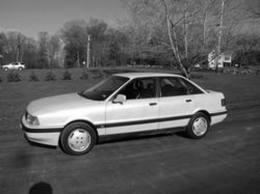car: (22, 73, 230, 158)
